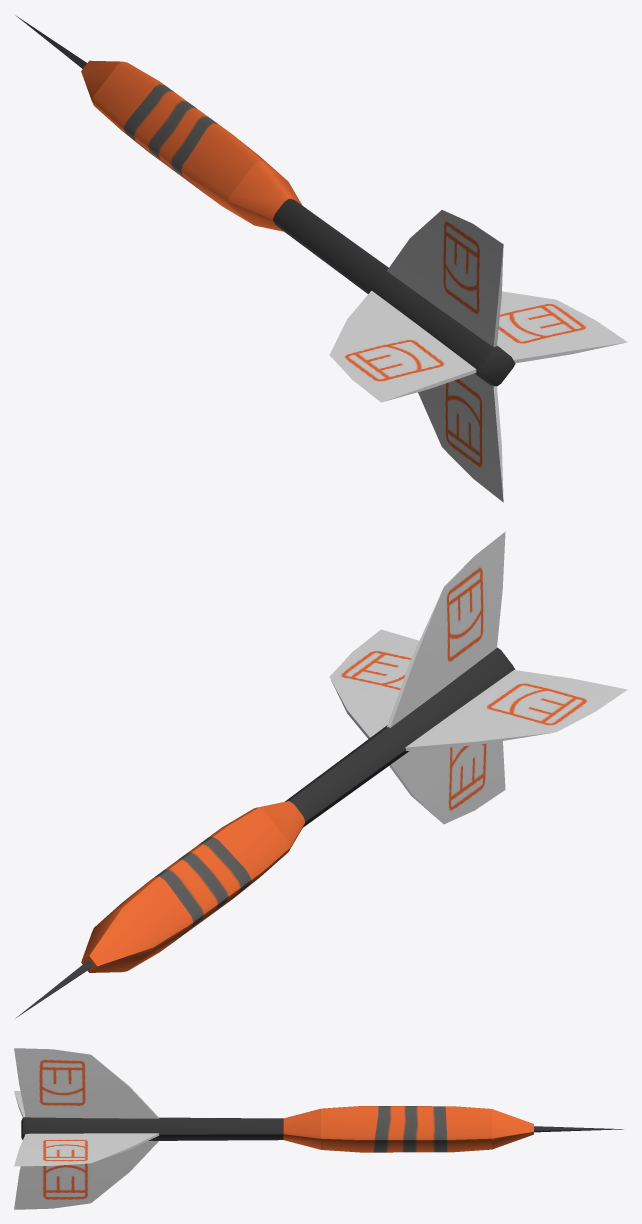
The model's file is dart.glb.
3 renders of one model, top to bottom at view 1: azimuth 30°, elevation 25°; view 2: azimuth 150°, elevation 25°; view 3: azimuth 270°, elevation 25°, orthographic. The views are drawn at different scales.
Parts seen in each view (by area): view 1: Dart_LOD0; view 2: Dart_LOD0; view 3: Dart_LOD0.
Boxes of the visible parts, x1=… form: Dart_LOD0: x1=15, y1=15, x2=627, y2=502; Dart_LOD0: x1=15, y1=531, x2=627, y2=1018; Dart_LOD0: x1=14, y1=1048, x2=623, y2=1209.
Size of the model in its own units: 0.0448 by 0.0448 by 0.1542.
1 material, 1 textured.
